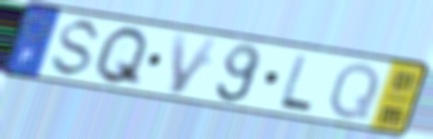9: (212, 41, 264, 106)
L: (274, 51, 316, 115)
Q: (91, 24, 153, 90), (326, 61, 383, 122)
S: (46, 17, 105, 79)
V: (169, 31, 223, 97)
